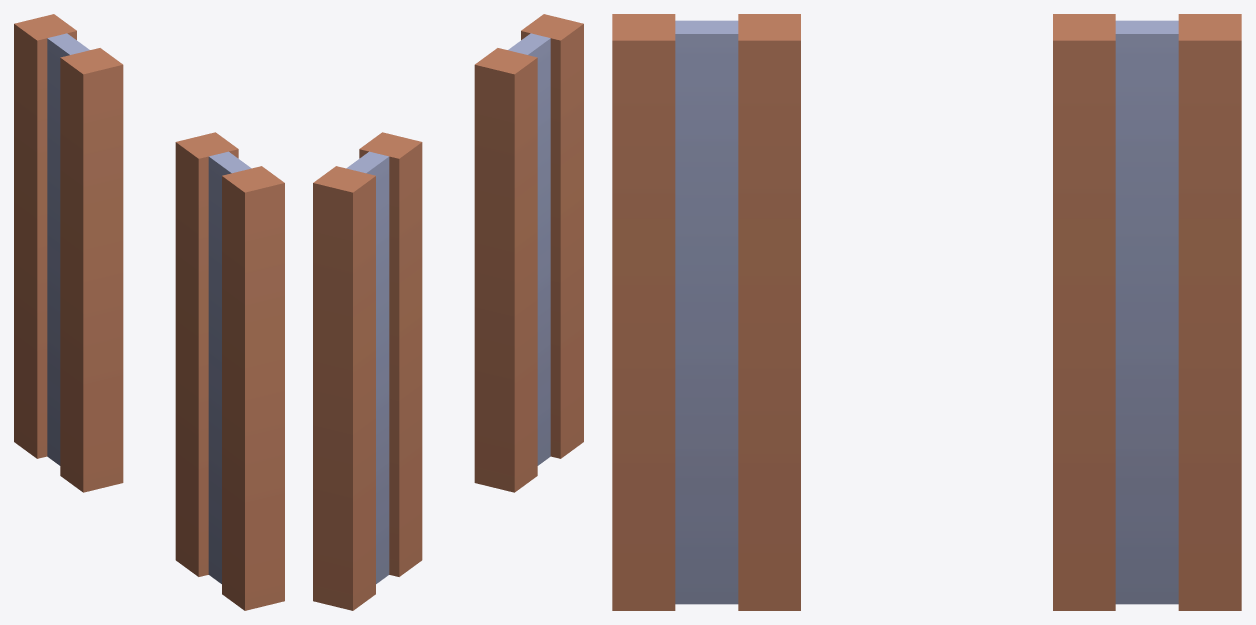
Rendered from kenney-fantasy-town-wall-doorway-base.glb.
The picture shows the model from 3 angles, left to right: view 1: azimuth 30°, elevation 25°; view 2: azimuth 150°, elevation 25°; view 3: azimuth 270°, elevation 25°; orthographic projection. The views are drawn at different scales.
Parts seen in each view (by area): view 1: wall-doorway-base; view 2: wall-doorway-base; view 3: wall-doorway-base.
Part boxes in pixels (box(x1,y1,x2,y2)): wall-doorway-base: box(14, 14, 284, 610); wall-doorway-base: box(313, 14, 583, 610); wall-doorway-base: box(612, 14, 1241, 610).
Bounding box in the file's own units: 0.1 × 1 × 1.
1 material, 1 textured.
